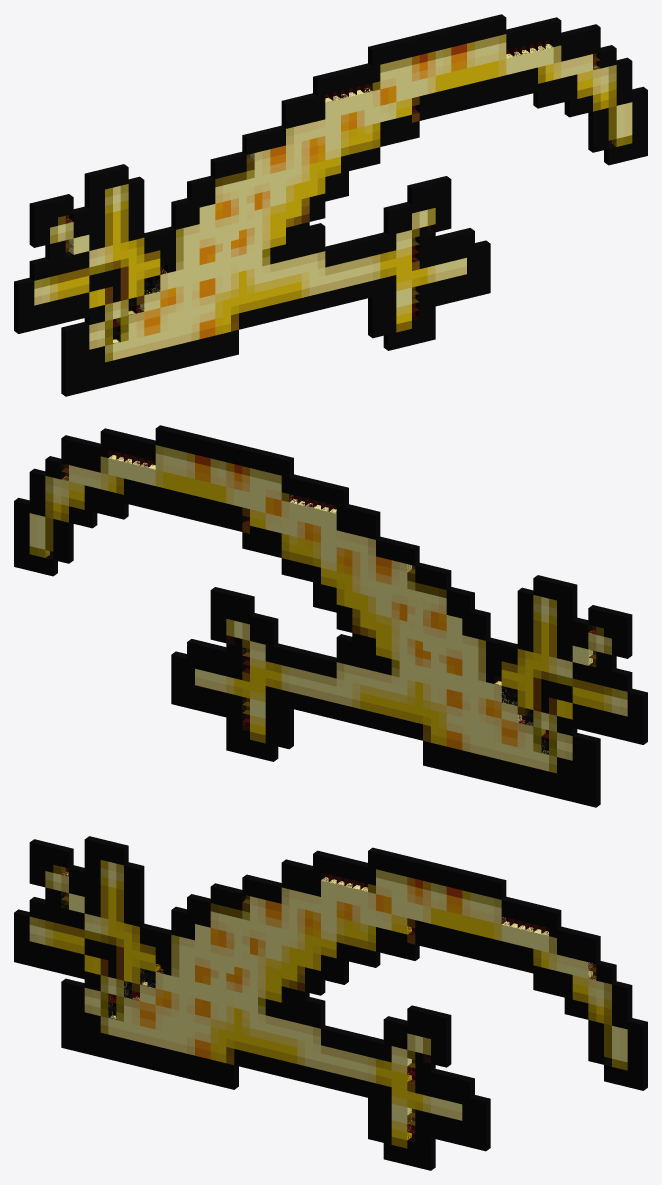
The model's file is LizardTailRelic.fbx.
The picture shows the model from 3 angles, top to bottom: view 1: azimuth 30°, elevation 25°; view 2: azimuth 150°, elevation 25°; view 3: azimuth 330°, elevation 25°; orthographic projection.
Parts seen in each view (by area): view 1: lizardtail; view 2: lizardtail; view 3: lizardtail.
Part boxes in pixels (x1,y1,x2,y2): lizardtail: [14, 14, 647, 396]; lizardtail: [14, 425, 647, 807]; lizardtail: [14, 836, 647, 1170].
Bounding box in the file's own units: 7900 × 3654 × 98.75.
